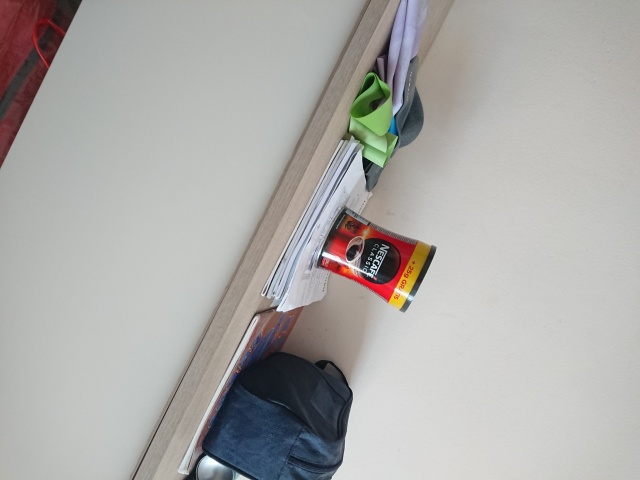Nescafe Classic 225g: (307, 201, 445, 318)
